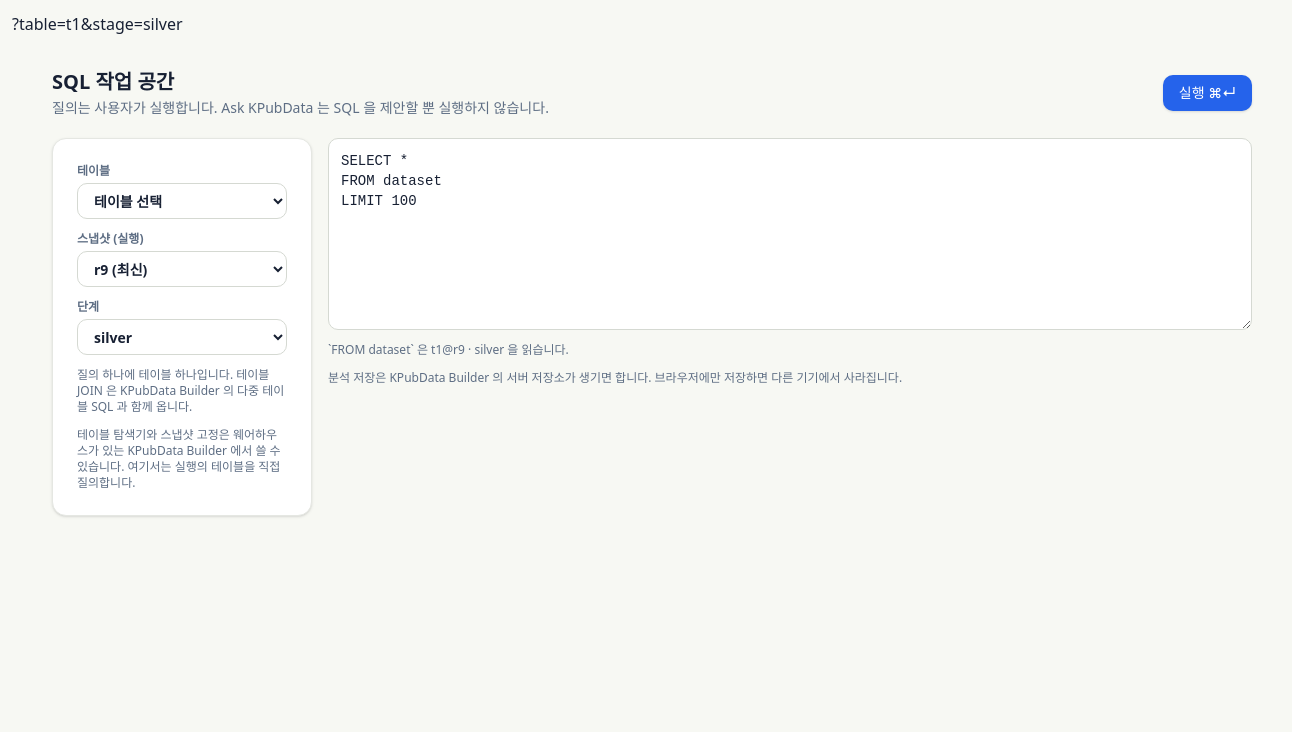
Scenario: SQL Workspace against KPubData Builder (#417) › sends exactly the pinned snapshot and shows the Builder's refusal
This screenshot has width=1292, height=732.
Replace the text in the text box named "SQL" with "DELETE FROM dataset" at (790, 234), box [328,138,1252,330]
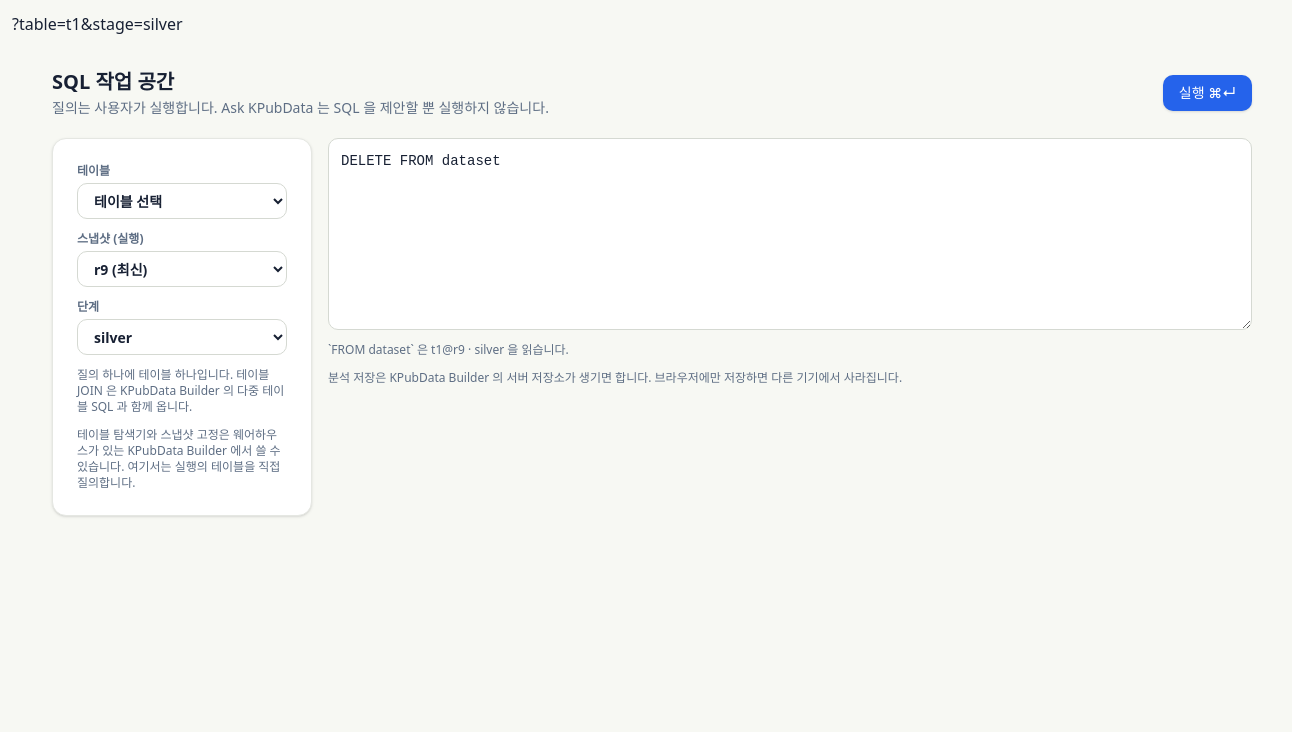
Click the button "실행 ⌘↵" at (1207, 93), box [1163,75,1252,111]
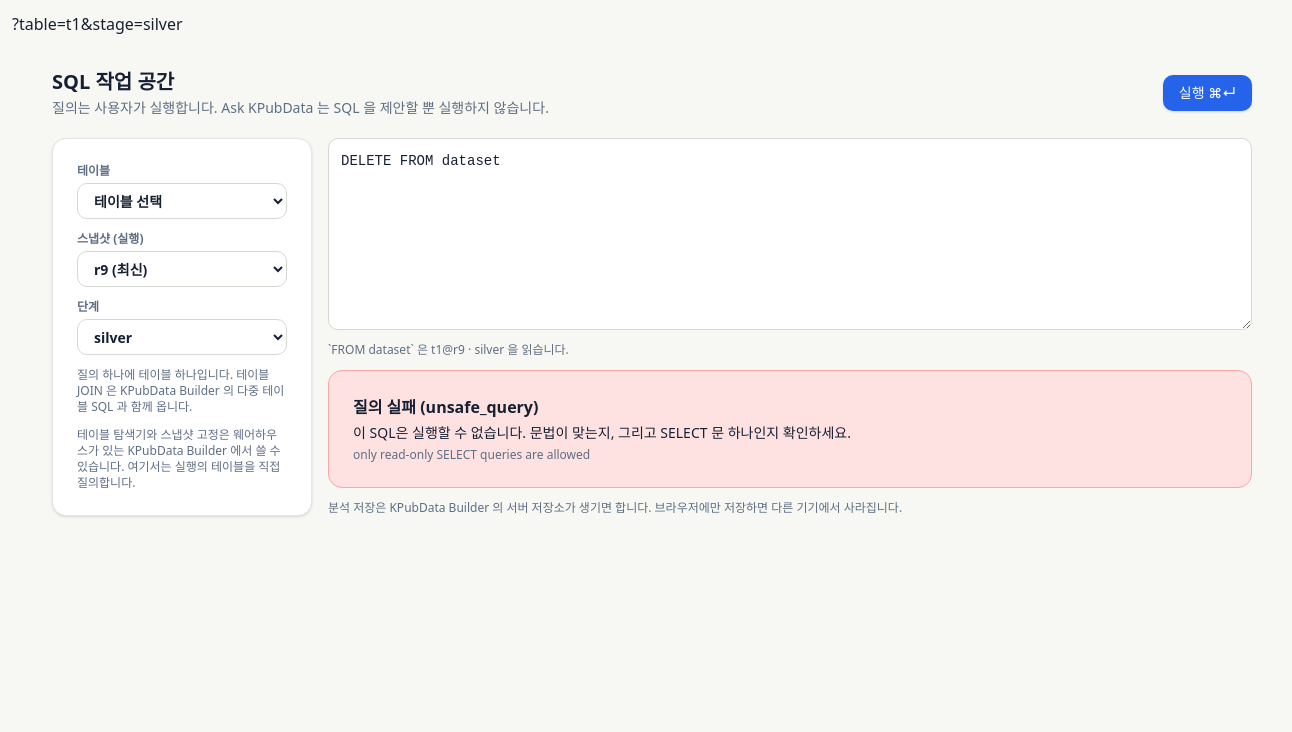
Expected: the message shows "unsafe_query", [353,396,538,418]
